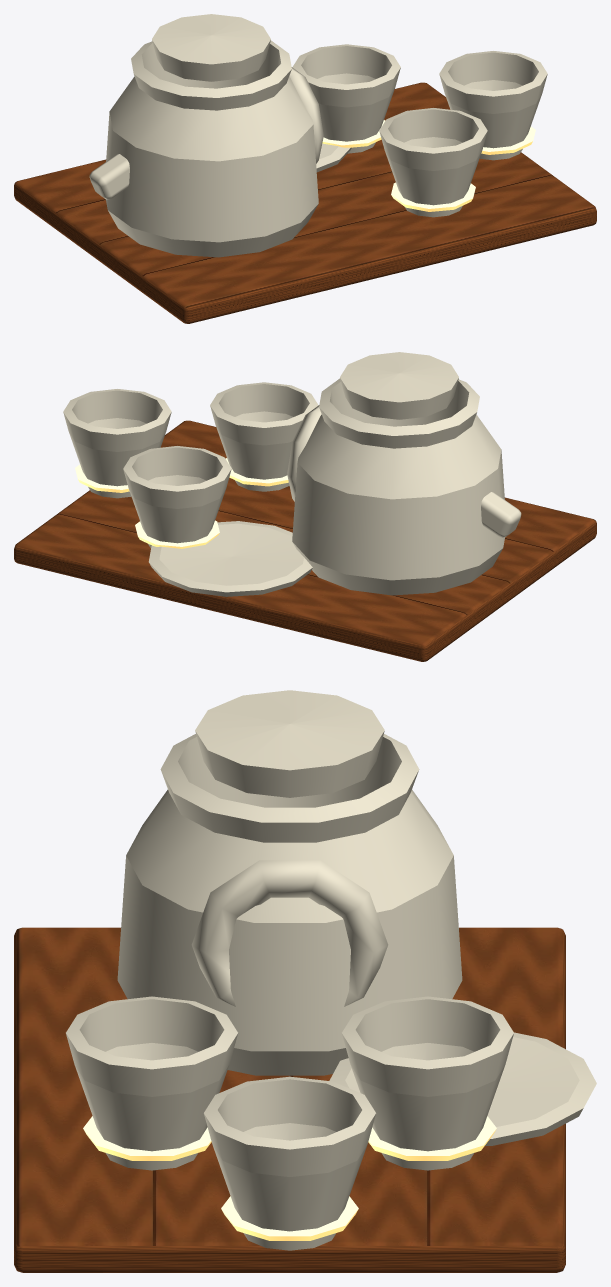
Rendered from witch-cottage-and-apothecary-tea-set-on-tray-2281bd16__32460.glb.
3 renders of one model, top to bottom at view 1: azimuth 30°, elevation 25°; view 2: azimuth 150°, elevation 25°; view 3: azimuth 270°, elevation 25°, orthographic. The views are drawn at different scales.
Parts seen in each view (by area): view 1: tea-set-on-tray; view 2: tea-set-on-tray; view 3: tea-set-on-tray.
Part boxes in pixels (left/top/right/bottom): tea-set-on-tray: left=14, top=14, right=596, bottom=323; tea-set-on-tray: left=14, top=352, right=596, bottom=661; tea-set-on-tray: left=14, top=690, right=596, bottom=1272.
Size of the model in its own units: 0.4748 by 0.204 by 0.338.
Materials: 3 (1 with a texture image).
